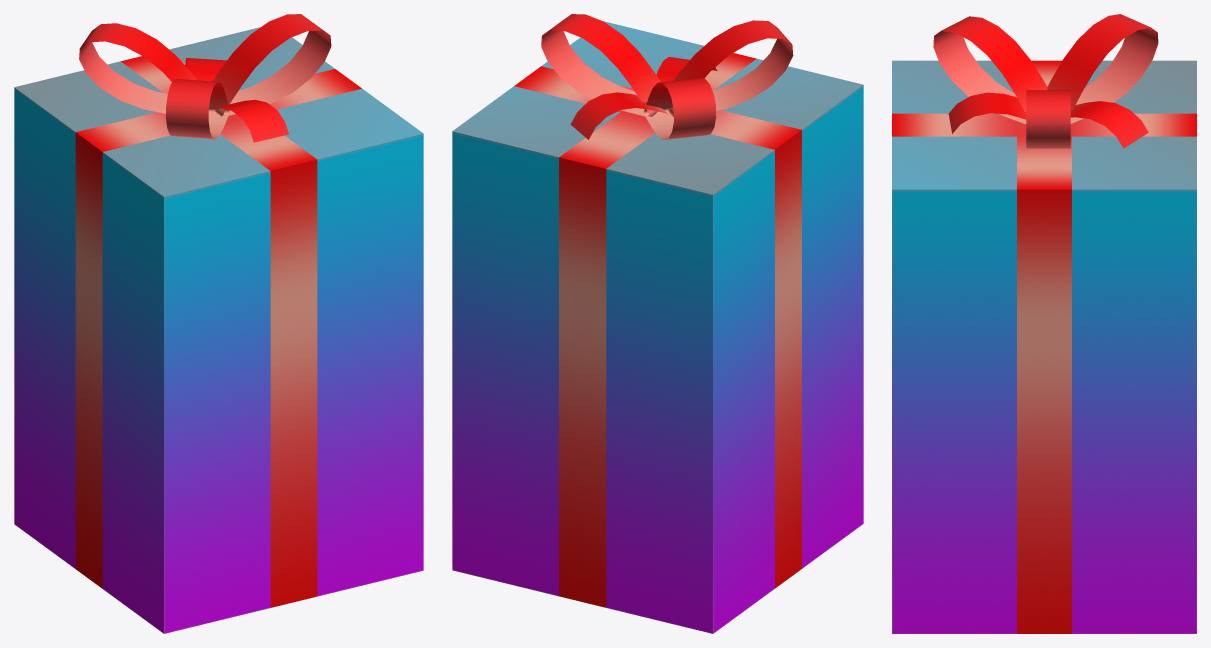
Rendered from Gift_03.FBX.
The picture shows the model from 3 angles, left to right: view 1: azimuth 30°, elevation 25°; view 2: azimuth 150°, elevation 25°; view 3: azimuth 270°, elevation 25°; orthographic projection.
Parts seen in each view (by area): view 1: Gift_03; view 2: Gift_03; view 3: Gift_03.
Boxes of the visible parts, x1,y1,x2,y2 form: Gift_03: [14, 14, 423, 633]; Gift_03: [452, 14, 863, 633]; Gift_03: [892, 14, 1196, 633].
Size of the model in its own units: 80.66 by 150 by 80.66.
